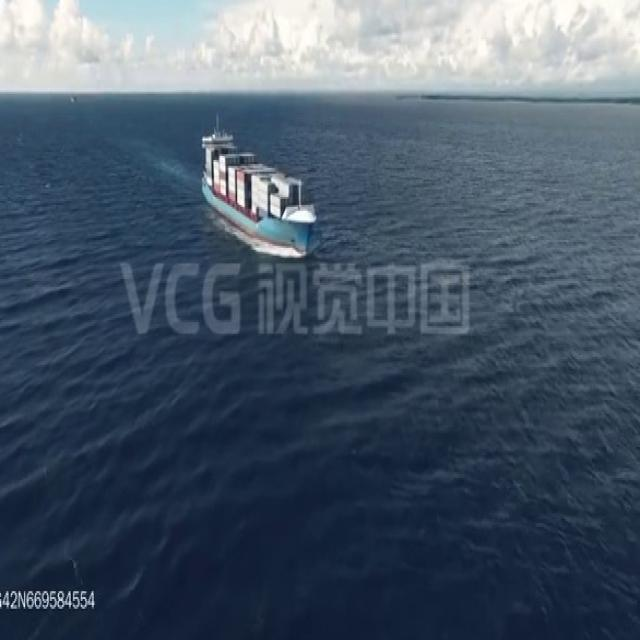cargoship: (198, 120, 318, 253)
